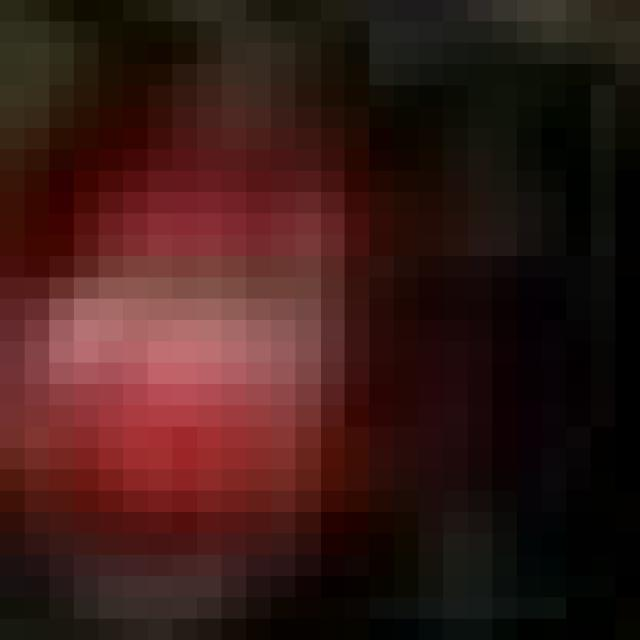nofire: (0, 21, 640, 640)
